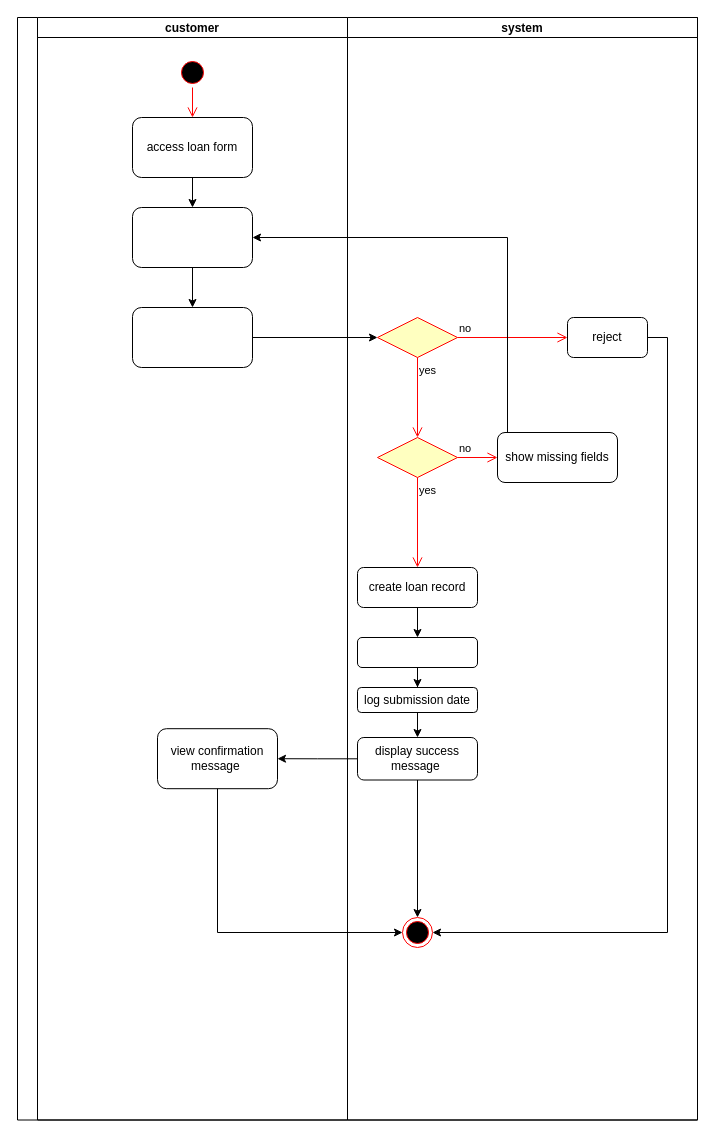
Some shapes in this 715 by 1138 pixel diagram are drawn without their labels. The shapes that lost their labels are listed below. From the top down, each one's centre as x and y in pixels, then its label:
(x=192, y=237): fill required fields
(x=192, y=337): submit application
(x=417, y=337): eligible?
(x=417, y=457): form completed?
(x=417, y=652): set status to pending
